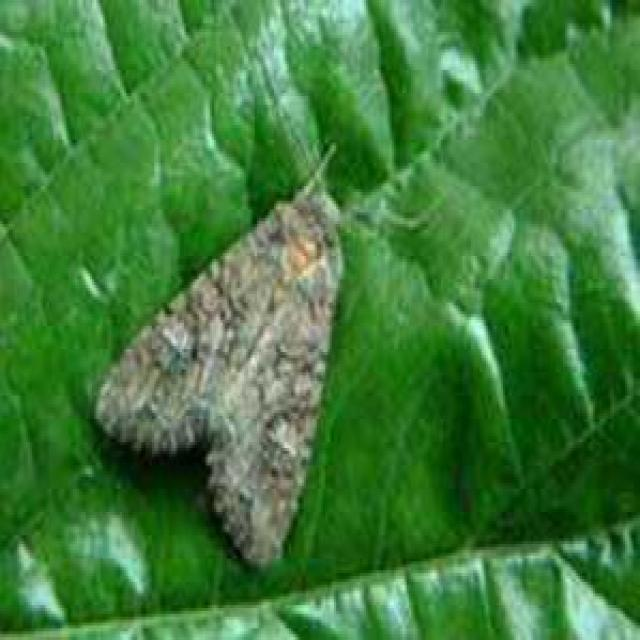armyworm: (103, 174, 357, 545)
